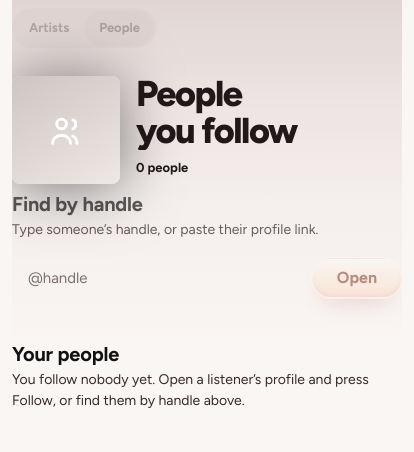
Test case: /following → People › Find by handle opens the profile, and says when the text cannot be a handle
The image size is (414, 452).
Step 1. Type "a b" into the field labelled "handle" → (158, 278), box [12,254,304,302]
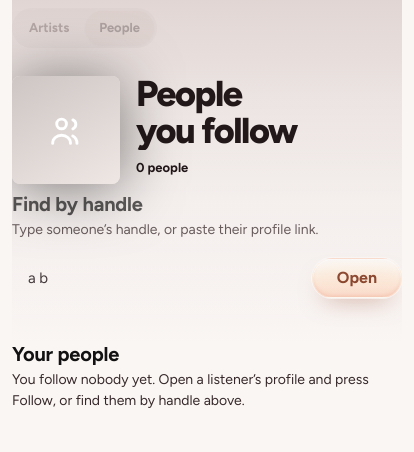
Step 2. Click the button "Open" → (357, 278), box [312,258,402,298]
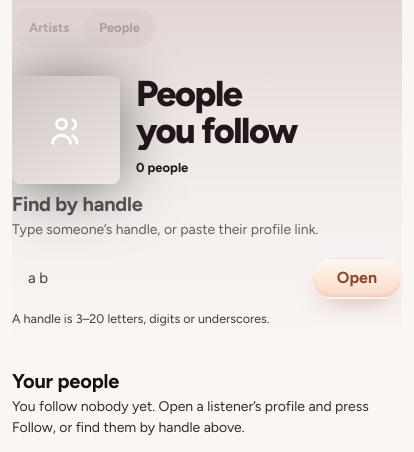
Now the text "A handle is 3–20 letters, digits or underscores." is shown, box [12,311,270,326]
Step 3. Replace the text in the field named "handle" with "@Bobo" → (158, 278), box [12,254,304,302]
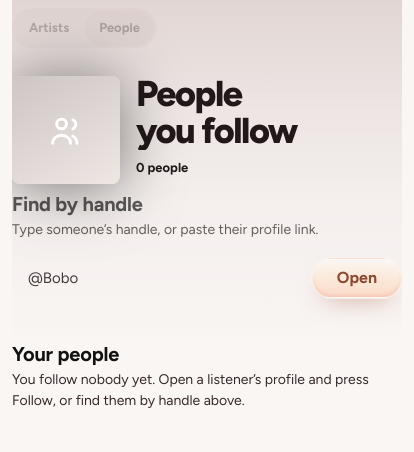
Step 4. Click the button "Open" → (357, 278), box [312,258,402,298]
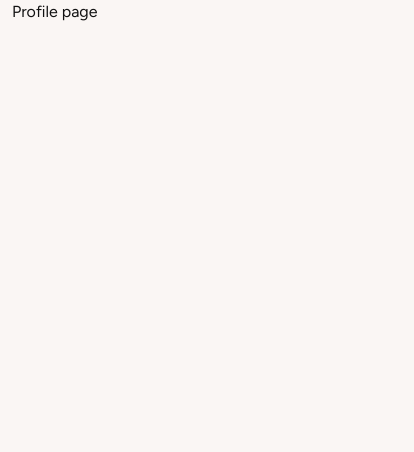
Now the text "Profile page" is shown, box [12,2,98,21]
